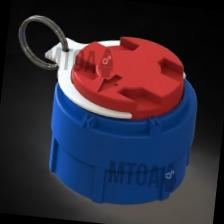M14: (38, 33, 210, 224)
